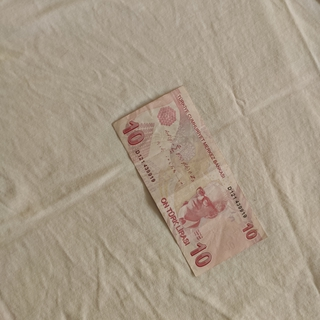10TLBack: (110, 83, 270, 279)
